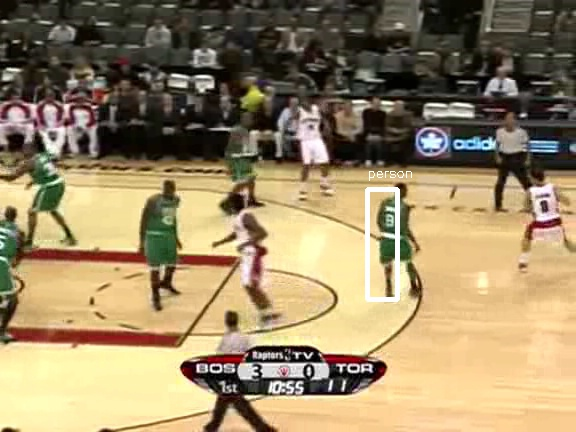person: (377, 191, 411, 272), (376, 191, 410, 272), (378, 191, 412, 272), (377, 190, 411, 271), (377, 192, 411, 273)
target_negative: (75, 364, 343, 431), (101, 48, 186, 231), (255, 390, 416, 418), (448, 216, 505, 259), (220, 238, 224, 324), (91, 166, 120, 177)
